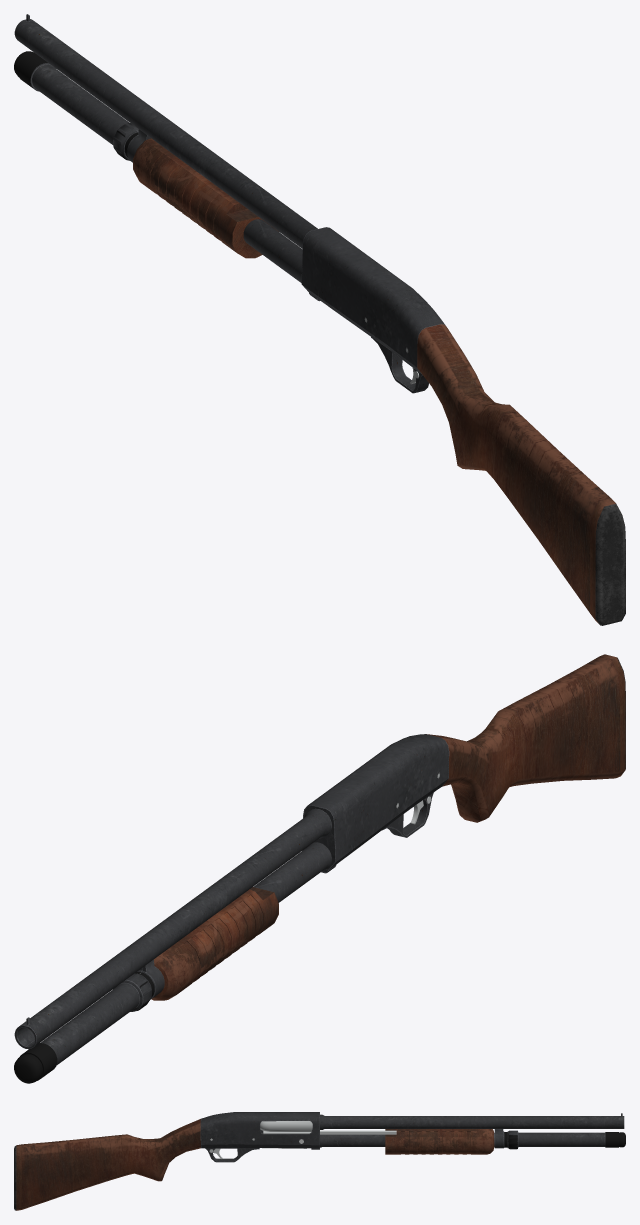
Rendered from MP-133 12ga pump-action shotgun.glb.
3 renders of one model, top to bottom at view 1: azimuth 30°, elevation 25°; view 2: azimuth 150°, elevation 25°; view 3: azimuth 270°, elevation 25°, orthographic. The views are drawn at different scales.
Size of the model in its own units: 42.88 by 161 by 941.
Materials: 3 (3 with a texture image).
